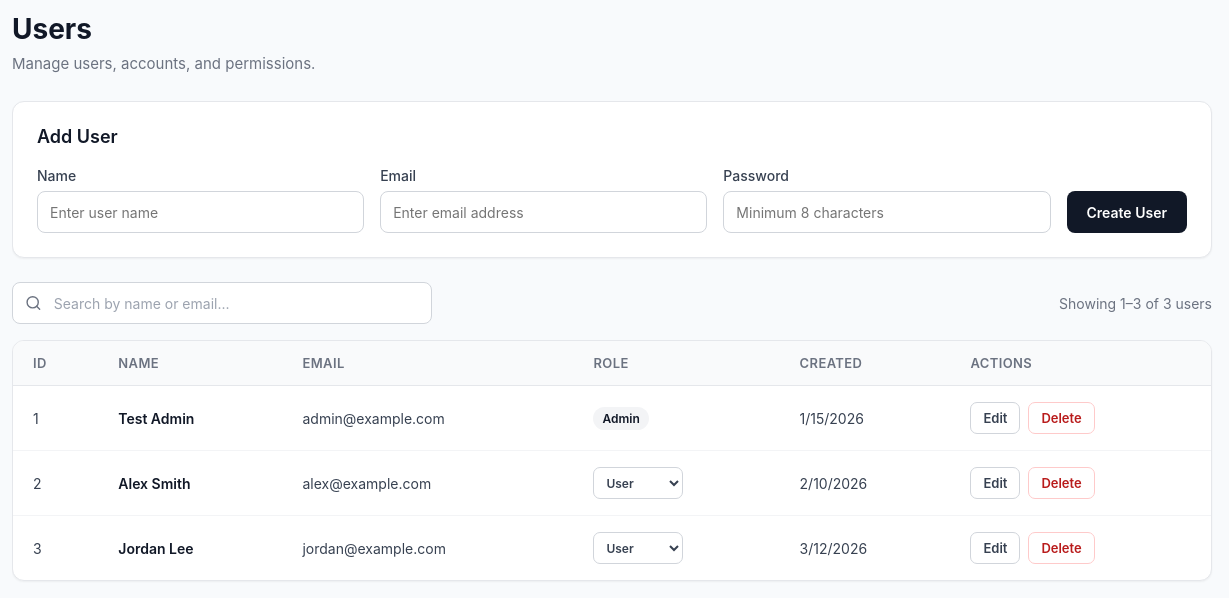
Test case: Users page › filters users by name or email
This screenshot has width=1229, height=598.
expect the text "Alex Smith" is shown: met, box 98,450 -> 282,516
Type "jordan" into the search field named "search users" at point(235, 303), box 52,294 -> 419,312
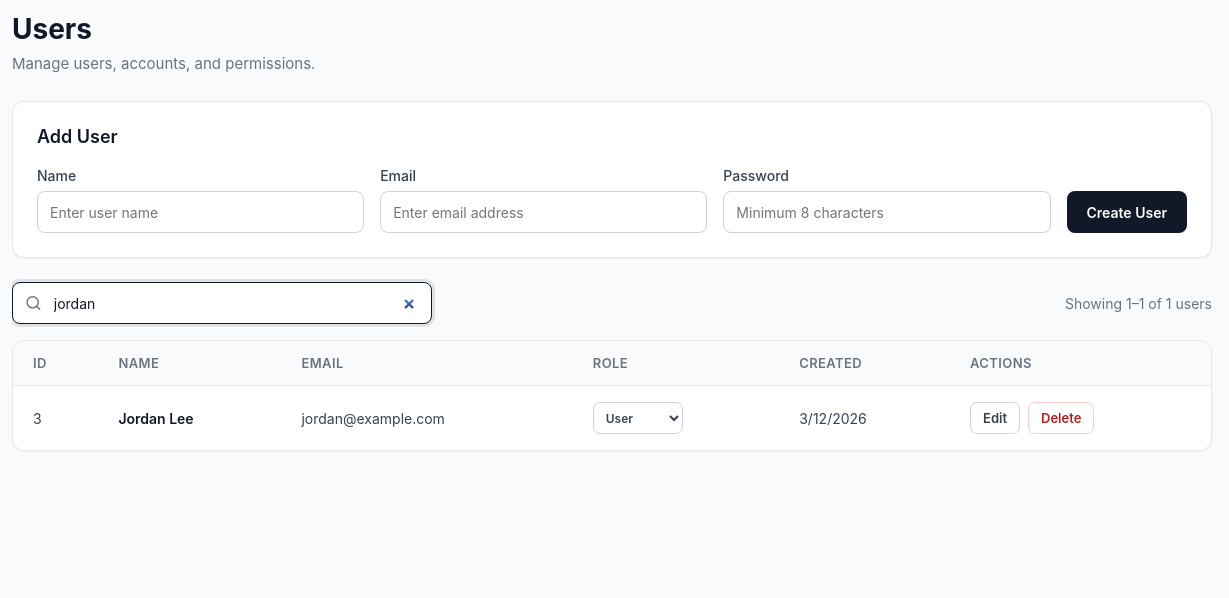
expect the text "Jordan Lee" is shown: met, box 98,386 -> 281,450
expect the text "Alex Smith" is gone: met
